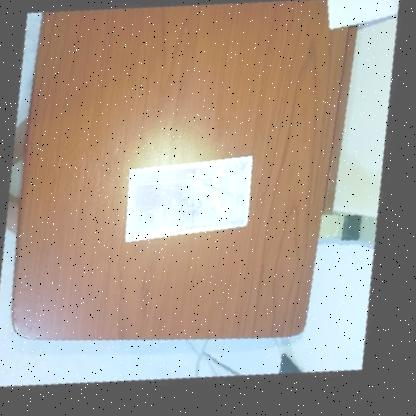vef_back: (115, 140, 266, 263)
